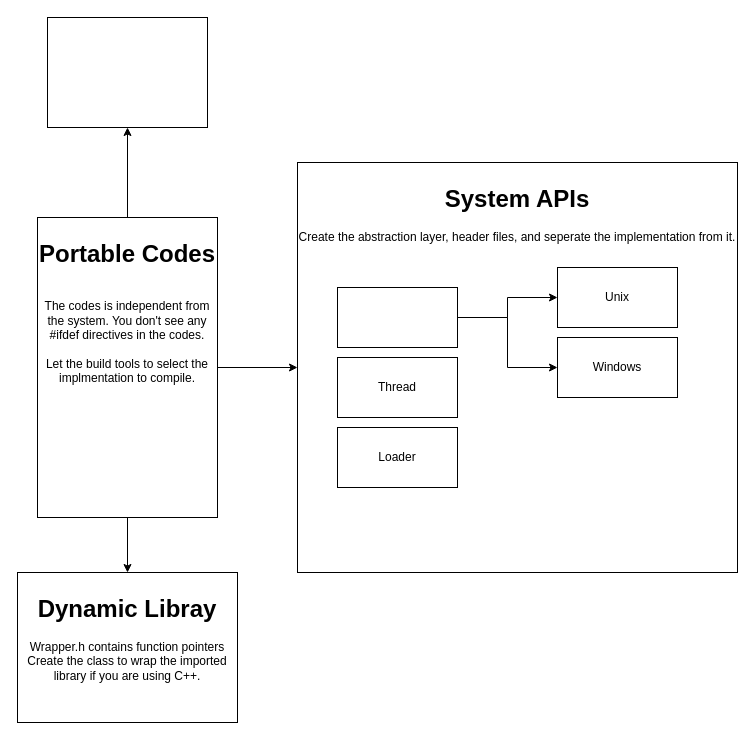
This 755x740 diagram has some shape labels left out. The box of each missing label's shape, as (x1, y1, x2, y2) in pixels:
File System: (336, 286, 458, 348)
platform.h include other system-specific headers or types for systems.: (46, 16, 208, 128)
